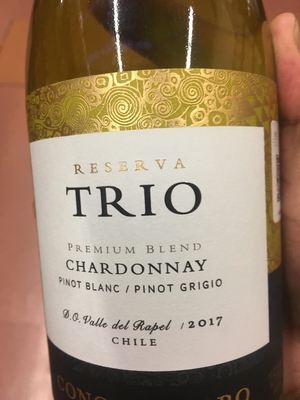trio chardonnay: (22, 14, 285, 400)
